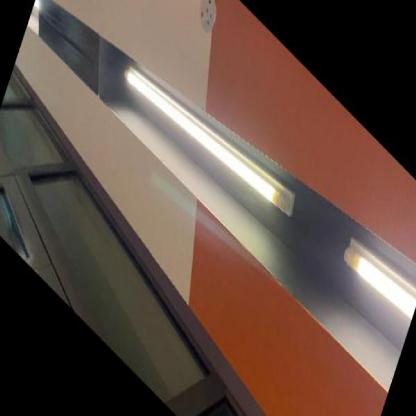light_on: (110, 19, 304, 258), (331, 198, 415, 344), (20, 0, 52, 55)
